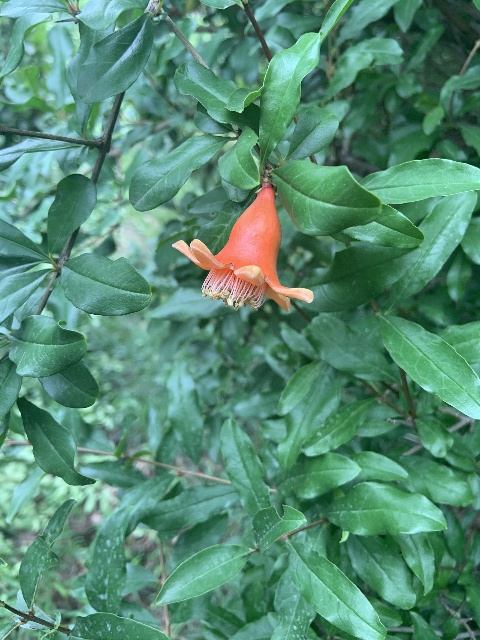flower: (171, 187, 313, 313)
